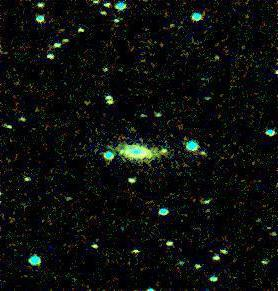star: (107, 138, 137, 168)
